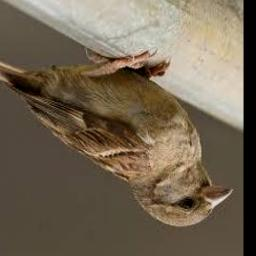Sparrow: (0, 50, 233, 228)
